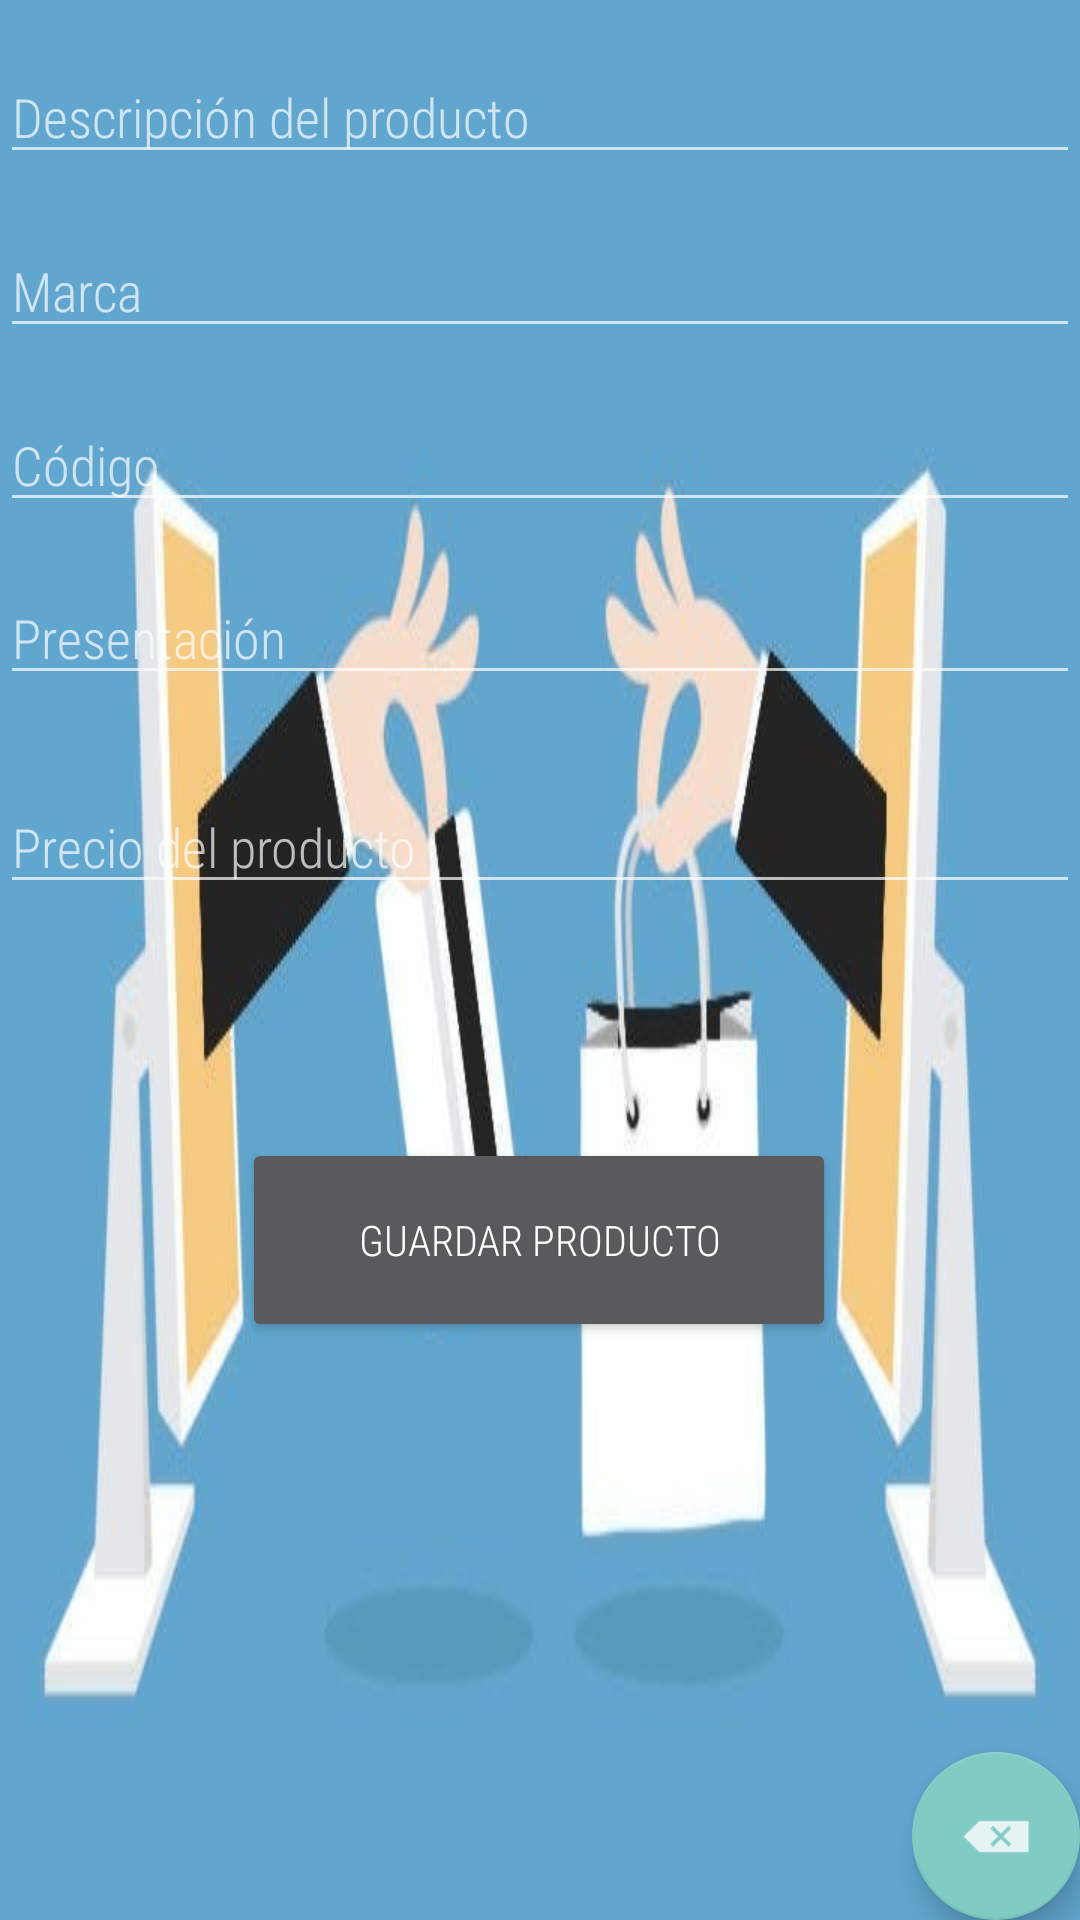

Point at icon controls on the screen. Image size 1080 × 1920, points as point (x, y).
delete: point (996, 1836)
